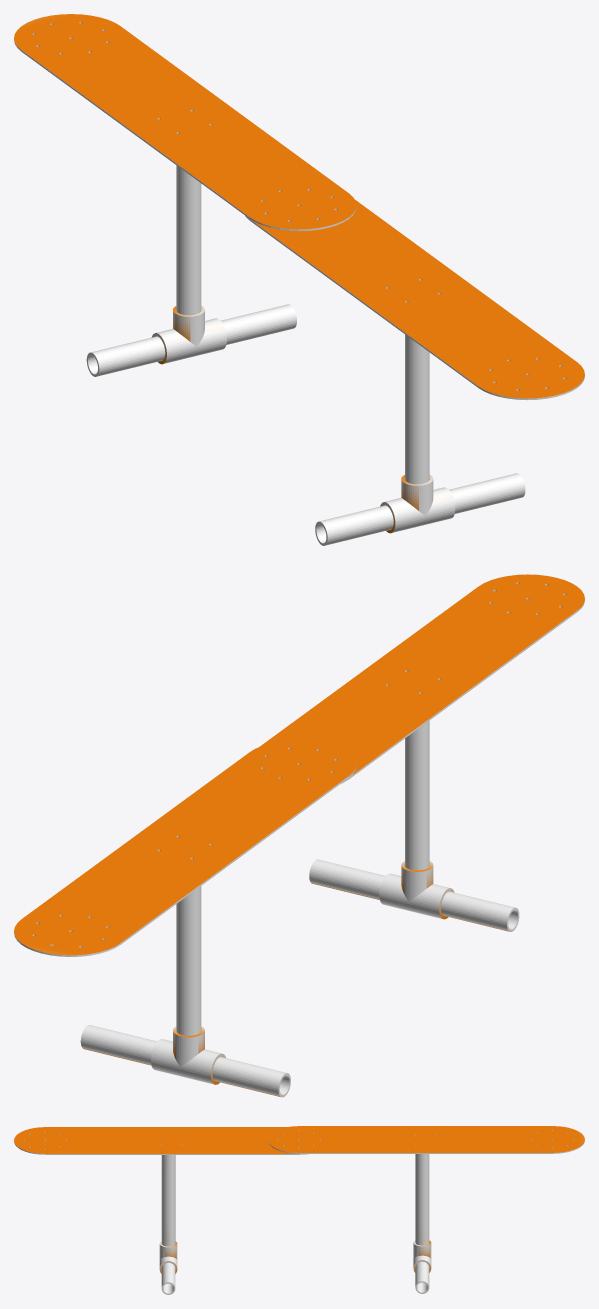
The model's file is pathmarker.dae.
The picture shows the model from 3 angles, top to bottom: view 1: azimuth 30°, elevation 25°; view 2: azimuth 150°, elevation 25°; view 3: azimuth 270°, elevation 25°; orthographic projection. The views are drawn at different scales.
Parts seen in each view (by area): view 1: path_assembly.002; view 2: path_assembly.002; view 3: path_assembly.002.
Boxes of the visible parts, left/top/right/bottom form: path_assembly.002: left=14, top=14, right=584, bottom=545; path_assembly.002: left=14, top=574, right=584, bottom=1097; path_assembly.002: left=14, top=1126, right=584, bottom=1294.
Size of the model in its own units: 0.3 by 1.35 by 0.3381.
1 material, 1 textured.
